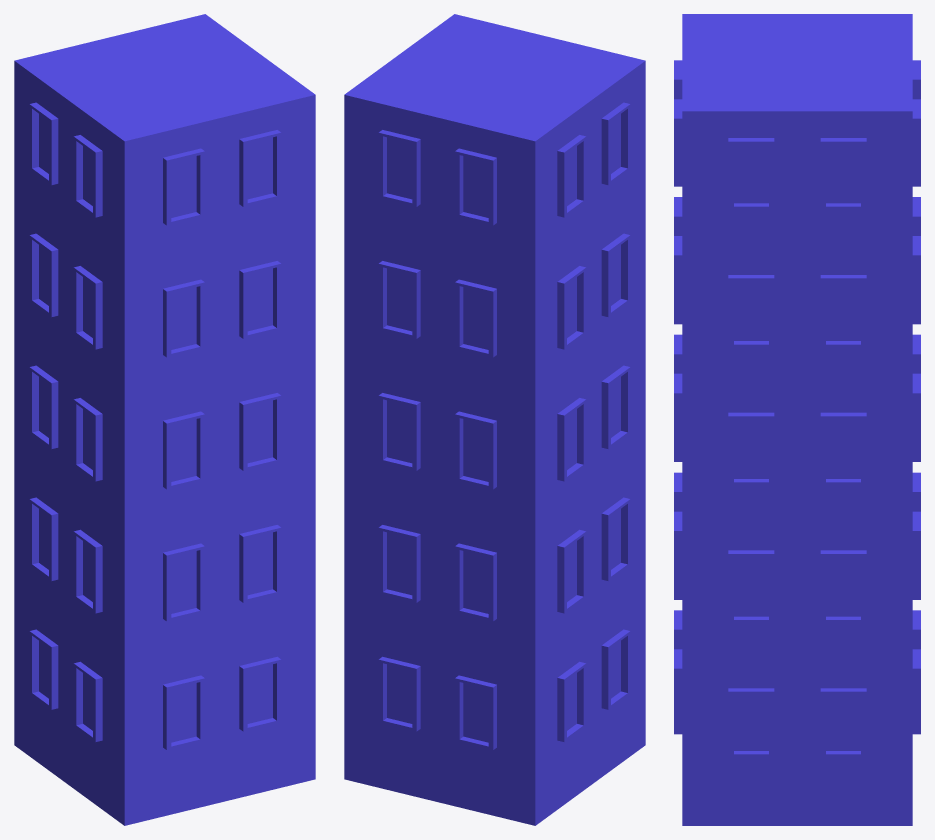
Rendered from VGA223_Kiriakidis_Alexandros_Building3.FBX.
3 renders of one model, left to right at view 1: azimuth 30°, elevation 25°; view 2: azimuth 150°, elevation 25°; view 3: azimuth 270°, elevation 25°, orthographic. The views are drawn at different scales.
Parts seen in each view (by area): view 1: Box006; view 2: Box006; view 3: Box006.
Part boxes in pixels (bbox=[...]): Box006: bbox=[14, 14, 315, 825]; Box006: bbox=[344, 14, 645, 825]; Box006: bbox=[674, 14, 920, 825].
Size of the model in its own units: 2167 by 6924 by 2167.
